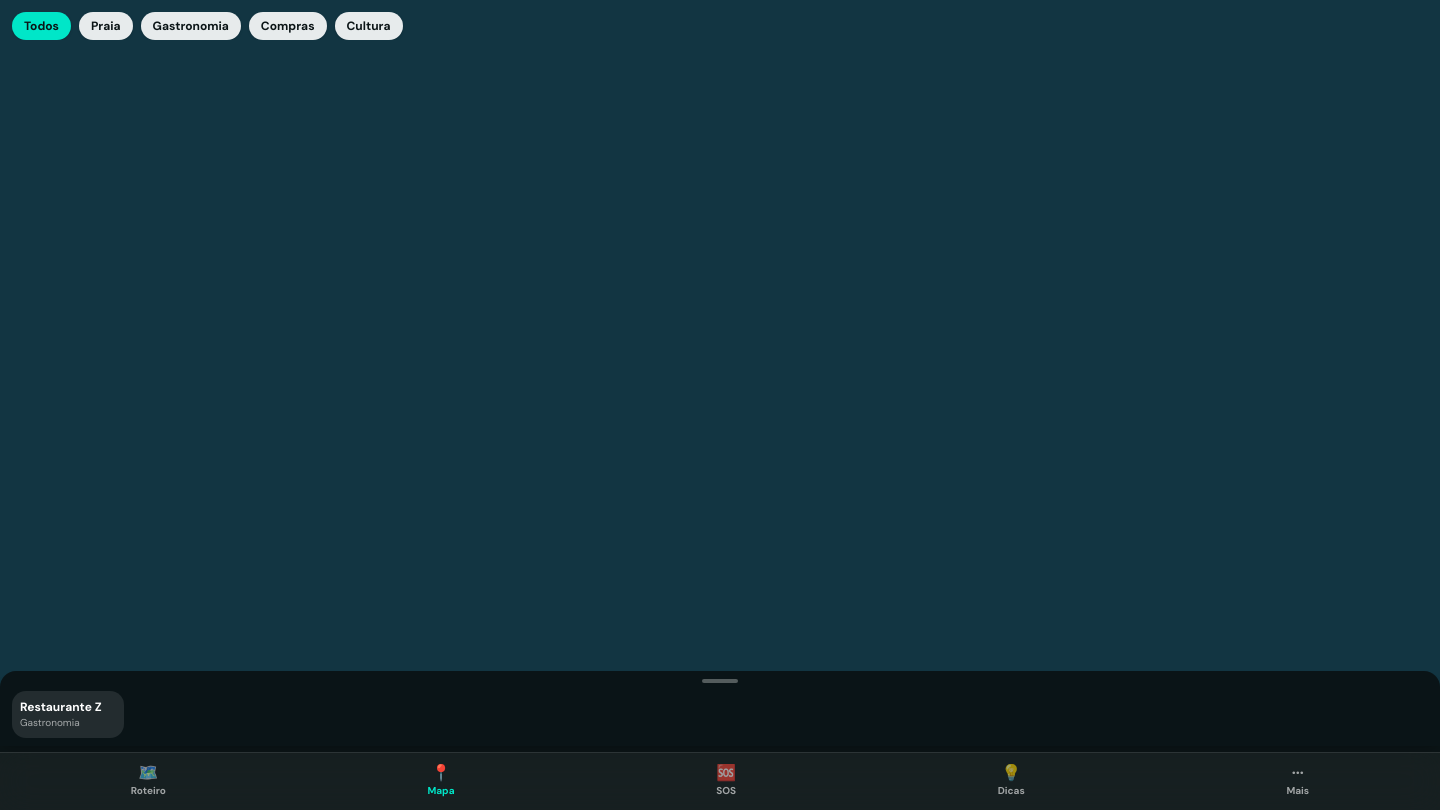
Test case: MapaView › shows a collapsible list of the visible suggestions
Expected: the text "Restaurante Z" is shown, [20,699,116,715]
What coordinates should you click on to do the following:
click the button named "recolher sugest"
I would click on:
 (720, 681)
Its box is [702,679,738,683].
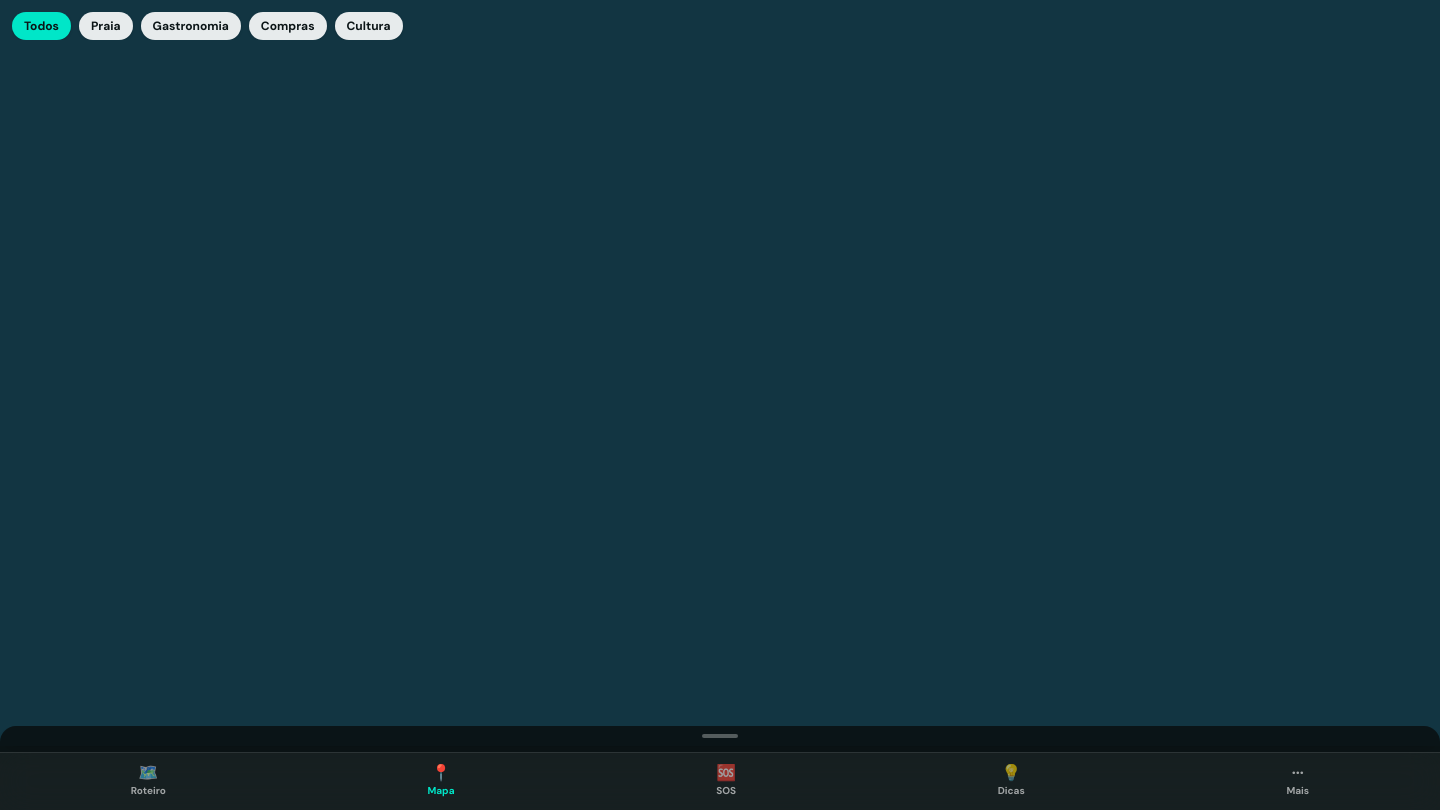
Expected: the button "Restaurante Z" is gone
